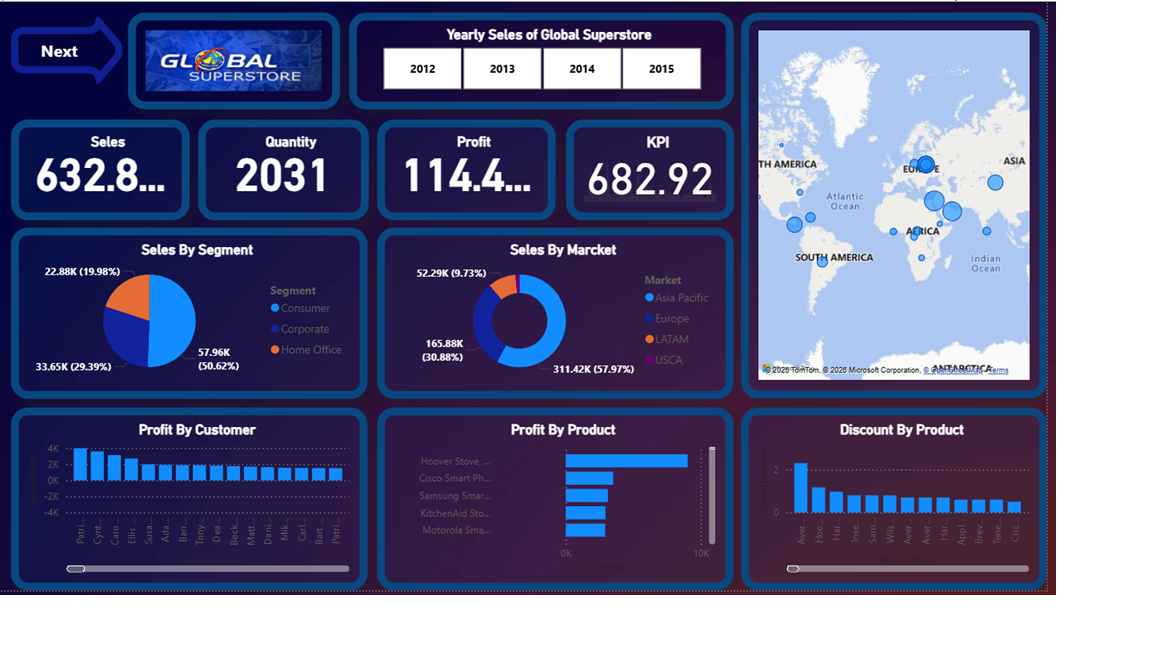

This screenshot's page, from the dashboard's own definition file:
{"tool":"powerbi","page":{"name":"Page 1","canvas":[1280,720],"ordinal":0},"visuals":[{"type":"slicer","title":"Yearly Seles of Global Superstore","fields":{"Values":["Global_Superstore(CSV).Year"]},"box":[426.8,13.7,470.7,118],"z":0},{"type":"card","title":"Seles","fields":{"Values":["Sum(Global_Superstore(CSV).Sales)"]},"box":[13.7,144.1,218.2,123.5],"z":1000},{"type":"card","title":"Quantity","fields":{"Values":["Sum(Global_Superstore(CSV).Quantity)"]},"box":[241.5,144.1,208.6,123.5],"z":2000},{"type":"card","title":"Profit","fields":{"Values":["Sum(Global_Superstore(CSV).Profit)"]},"box":[461.1,144.1,218.2,123.5],"z":3000},{"type":"pieChart","title":"Seles By Segment","fields":{"Y":["Sum(Global_Superstore(CSV).Profit)"],"Category":["Global_Superstore(CSV).Segment"]},"box":[13.7,275.8,436.4,209.9],"z":4000},{"type":"donutChart","title":"Seles By Marcket ","fields":{"Y":["Sum(Global_Superstore(CSV).Sales)"],"Category":["Global_Superstore(CSV).Market"]},"box":[461.1,275.8,436.4,209.9],"z":5000},{"type":"columnChart","title":"Profit By Customer","fields":{"Y":["Sum(Global_Superstore(CSV).Profit)"],"Category":["Global_Superstore(CSV).Customer Name"]},"box":[13.7,496.7,436.4,223.7],"z":6000},{"type":"clusteredBarChart","title":"Profit By Product","fields":{"Category":["Global_Superstore(CSV).Product Name"],"Y":["Sum(Global_Superstore(CSV).Profit)"]},"box":[461.1,496.7,436.4,223.7],"z":7000},{"type":"clusteredColumnChart","title":"Discount By Product","fields":{"Category":["Global_Superstore(CSV).Product Name"],"Y":["Sum(Global_Superstore(CSV).Discount)"]},"box":[905.7,496.7,374.6,223.7],"z":8000},{"type":"map","fields":{"Category":["Global_Superstore(CSV).Region"],"Size":["Sum(Global_Superstore(CSV).Sales)"]},"box":[905.7,13.7,374.6,472],"z":9000},{"type":"image","box":[156.4,13.7,259.3,118],"z":10000},{"type":"actionButton","box":[13.7,13.7,142.7,91.9],"z":11000},{"type":"kpi","title":"KPI","fields":{"Indicator":["Sum(Global_Superstore(CSV).Profit)"],"TrendLine":["Global_Superstore(CSV).Country"]},"box":[691.6,144.1,205.8,123.5],"z":13000}]}

Visuals, with their boxes in screenshot pixels (x1, y1, x2, y2), scaled from the page's 1280x720 canvas onto the 1152x648 screenshot:
"Yearly Seles of Global Superstore" slicer: x1=384 y1=12 x2=808 y2=119
"Seles" card: x1=12 y1=130 x2=209 y2=241
"Quantity" card: x1=217 y1=130 x2=405 y2=241
"Profit" card: x1=415 y1=130 x2=611 y2=241
"Seles By Segment" pieChart: x1=12 y1=248 x2=405 y2=437
"Seles By Marcket " donutChart: x1=415 y1=248 x2=808 y2=437
"Profit By Customer" columnChart: x1=12 y1=447 x2=405 y2=647
"Profit By Product" clusteredBarChart: x1=415 y1=447 x2=808 y2=647
"Discount By Product" clusteredColumnChart: x1=815 y1=447 x2=1151 y2=647
map - Global_Superstore(CSV).Region x Sum(Global_Superstore(CSV).Sales): x1=815 y1=12 x2=1151 y2=437
image: x1=141 y1=12 x2=374 y2=119
actionButton: x1=12 y1=12 x2=141 y2=95
"KPI" kpi: x1=622 y1=130 x2=808 y2=241
